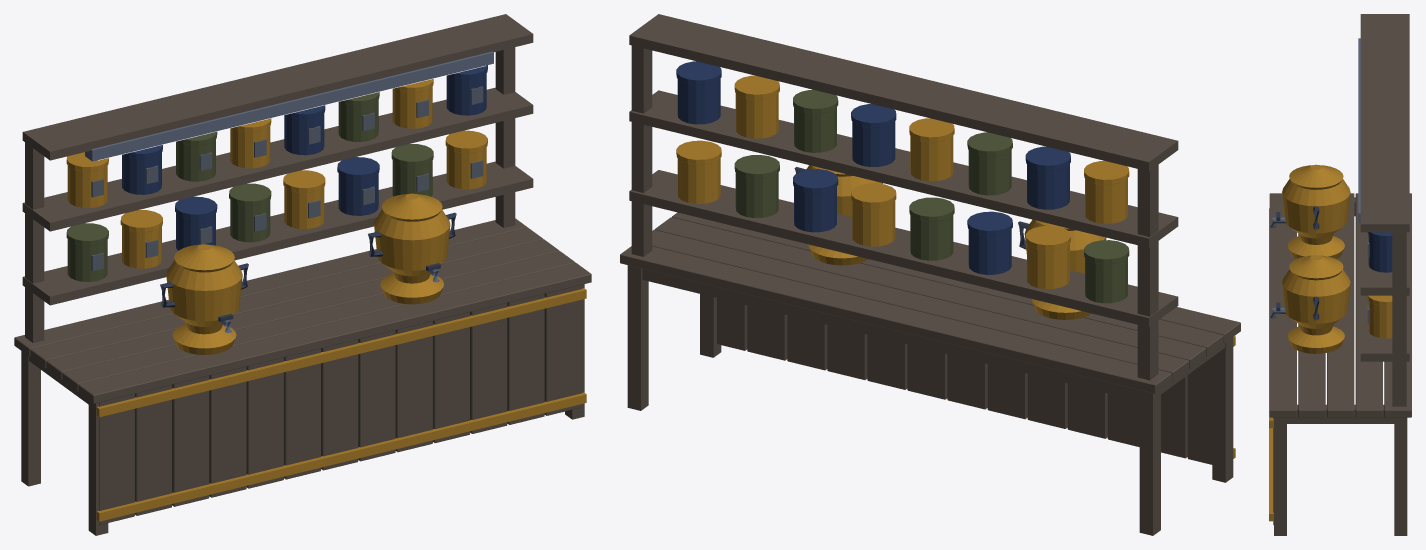
The model's file is bw_targ_tea_counter.glb.
The picture shows the model from 3 angles, left to right: view 1: azimuth 30°, elevation 25°; view 2: azimuth 150°, elevation 25°; view 3: azimuth 270°, elevation 25°; orthographic projection. The views are drawn at different scales.
Parts seen in each view (by area): view 1: apron.001, apron.002, apron.003, apron.005, apron.008, apron.004, apron.006; view 2: apron.001, apron.002, apron.003, apron.005; view 3: apron.001, apron.002, apron.005, apron.008, apron.006, apron.007.
Boxes of the visible parts, bbox=[...] form: apron.001: bbox=[14, 14, 591, 535]; apron.002: bbox=[66, 79, 586, 521]; apron.003: bbox=[66, 92, 433, 281]; apron.005: bbox=[122, 65, 487, 250]; apron.008: bbox=[85, 51, 493, 161]; apron.004: bbox=[91, 86, 483, 271]; apron.006: bbox=[160, 212, 456, 321]; apron.001: bbox=[620, 14, 1240, 535]; apron.002: bbox=[676, 75, 1235, 458]; apron.003: bbox=[734, 89, 1129, 303]; apron.005: bbox=[676, 61, 1070, 274]; apron.001: bbox=[1269, 14, 1411, 535]; apron.002: bbox=[1269, 164, 1392, 521]; apron.005: bbox=[1368, 232, 1392, 272]; apron.008: bbox=[1358, 38, 1360, 223]; apron.006: bbox=[1276, 206, 1319, 320]; apron.007: bbox=[1270, 217, 1285, 318].
Bounding box in the file's own units: 3.6 × 2.4 × 1.
